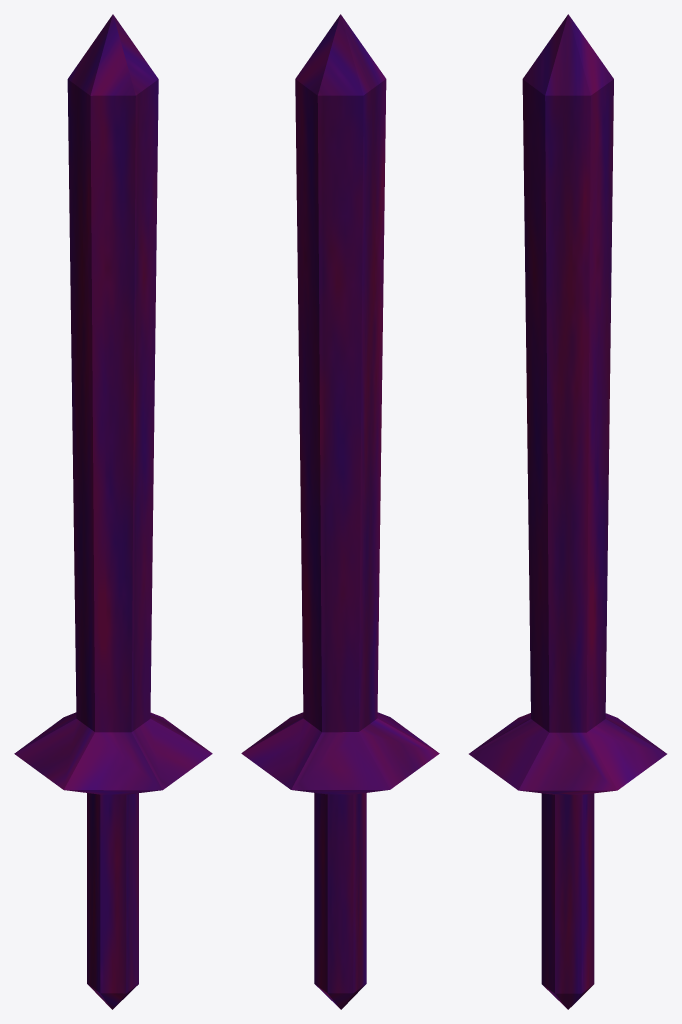
The model's file is heavybladev05.obj.
3 views of the same model, side by side, from view 1: azimuth 30°, elevation 25°; view 2: azimuth 150°, elevation 25°; view 3: azimuth 270°, elevation 25° (orthographic).
Parts seen in each view (by area): view 1: MDL_cw2hkt05; view 2: MDL_cw2hkt05; view 3: MDL_cw2hkt05.
Boxes of the visible parts, left/top/right/bottom form: MDL_cw2hkt05: left=14, top=14, right=212, bottom=1009; MDL_cw2hkt05: left=241, top=14, right=439, bottom=1009; MDL_cw2hkt05: left=469, top=14, right=666, bottom=1009.
Bounding box in the file's own units: 0.3063 × 1.95 × 0.3537.
